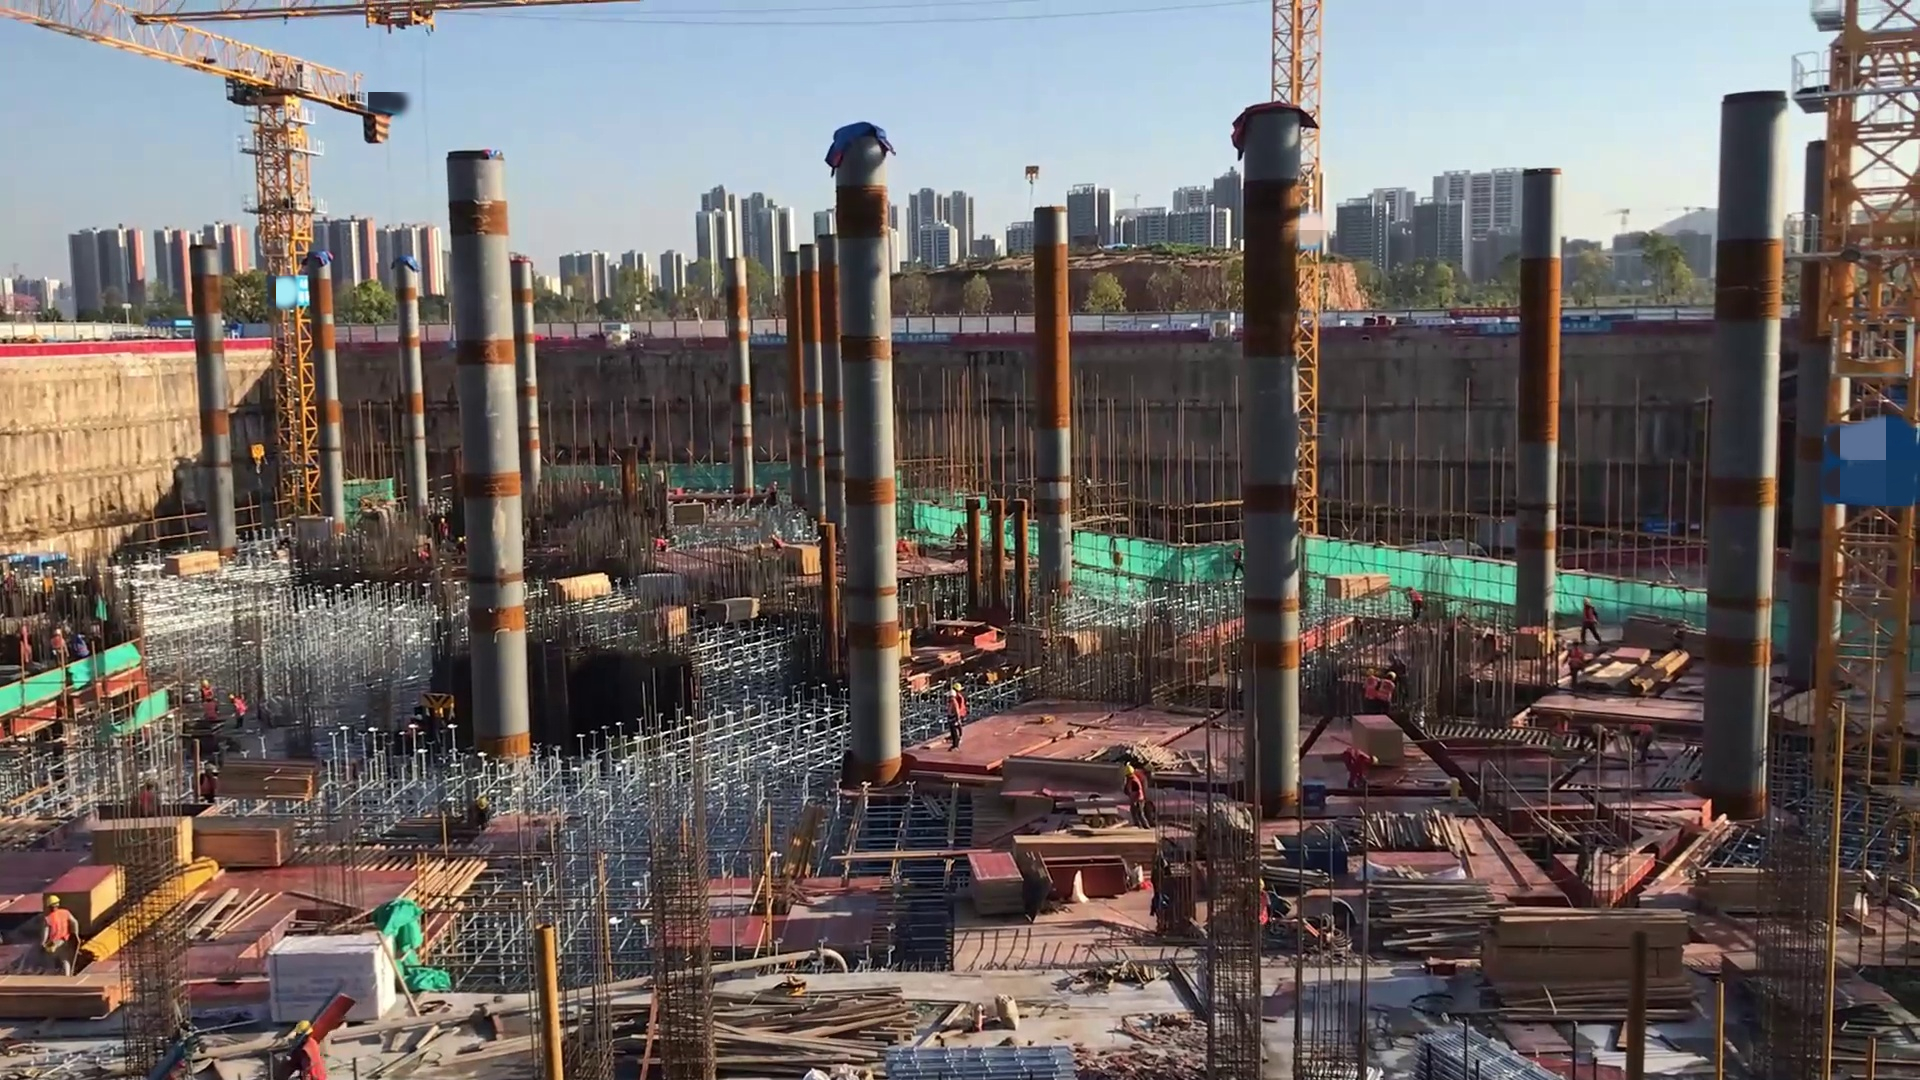helmet: (294, 1017, 313, 1036), (46, 894, 61, 912), (1368, 750, 1379, 773), (206, 762, 217, 774), (1123, 764, 1136, 776), (1384, 670, 1398, 679), (946, 689, 959, 698), (53, 628, 63, 638), (201, 678, 211, 689), (953, 682, 964, 691), (1365, 668, 1377, 677), (229, 694, 238, 703)
person: (34, 890, 82, 985), (281, 1009, 329, 1080), (1340, 741, 1380, 787), (1577, 592, 1608, 650), (1122, 766, 1150, 827), (1624, 719, 1656, 764), (945, 688, 964, 755), (45, 627, 69, 678), (950, 683, 970, 737), (221, 693, 251, 732), (1376, 670, 1398, 718), (193, 671, 217, 712), (198, 762, 222, 805), (1359, 667, 1379, 717), (1402, 584, 1426, 623), (1567, 639, 1583, 694), (68, 631, 91, 664), (1232, 544, 1247, 588), (437, 516, 452, 545), (899, 532, 915, 557), (770, 535, 787, 553)
vest: (294, 1038, 327, 1080), (40, 911, 70, 950), (1126, 777, 1147, 806), (1346, 747, 1367, 773), (1379, 679, 1394, 705), (74, 639, 89, 659), (1365, 676, 1376, 703), (1408, 589, 1423, 607)
